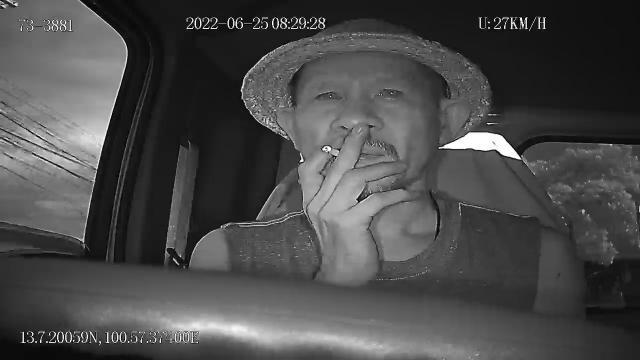SafeDriving: (369, 78, 410, 105), (310, 81, 348, 107)
Smoking: (320, 143, 342, 159)
